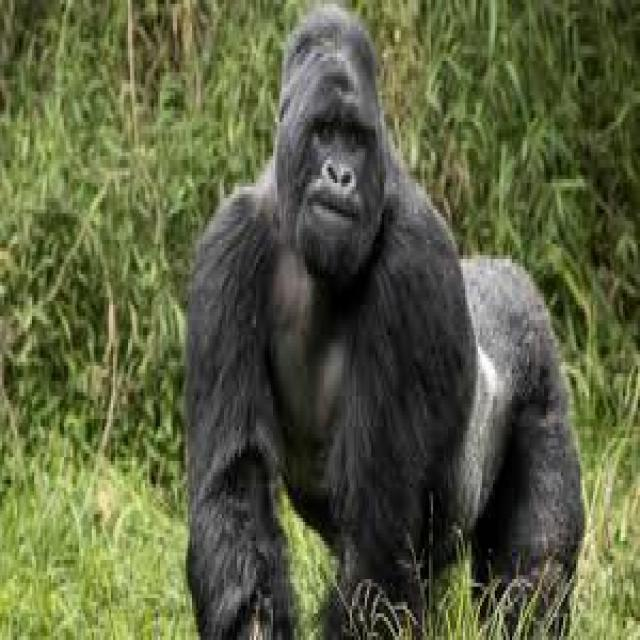Gorilla: (180, 2, 587, 640)
